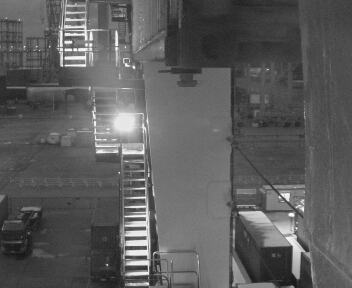twist_lock_1: (165, 63, 208, 94)
